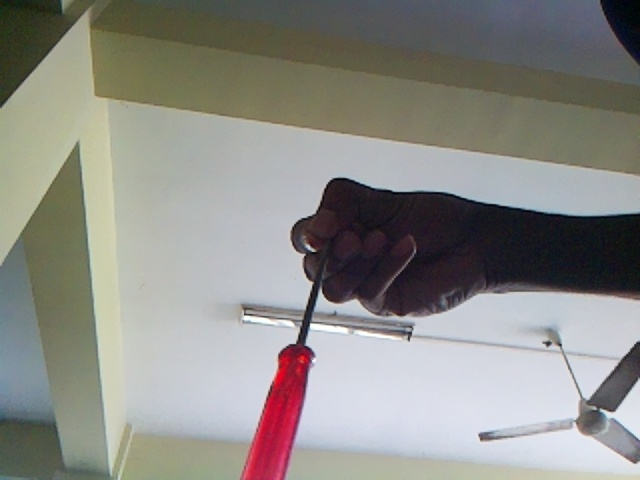redskrew: (234, 246, 336, 478)
